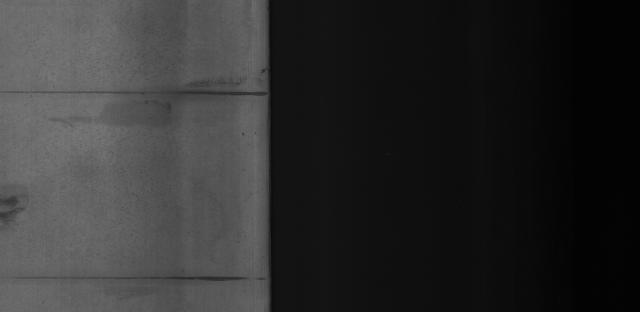crease: (16, 254, 268, 292), (11, 79, 272, 107)
